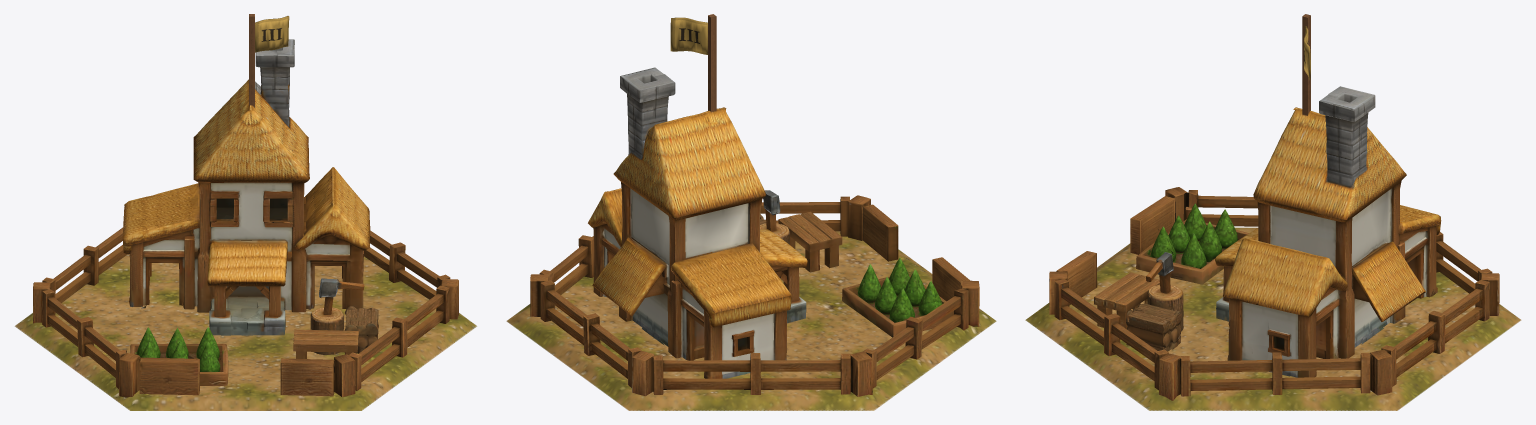
The model's file is workers-hut-3.glb.
3 renders of one model, left to right at view 1: azimuth 30°, elevation 25°; view 2: azimuth 150°, elevation 25°; view 3: azimuth 270°, elevation 25°, orthographic. The views are drawn at different scales.
Visible parts, largest first — view 1: architecture, ground, tier-banner; view 2: architecture, ground, tier-banner; view 3: architecture, ground.
Part boxes in pixels (left/top/right/bottom): architecture: left=33, top=14, right=458, bottom=397; ground: left=14, top=254, right=477, bottom=410; tier-banner: left=255, top=16, right=289, bottom=52; architecture: left=530, top=14, right=979, bottom=396; ground: left=506, top=231, right=996, bottom=410; tier-banner: left=670, top=17, right=707, bottom=54; architecture: left=1049, top=14, right=1499, bottom=400; ground: left=1025, top=227, right=1521, bottom=410.
Size of the model in its own units: 1.59 by 1.29 by 1.84.
3 materials, 3 textured.
